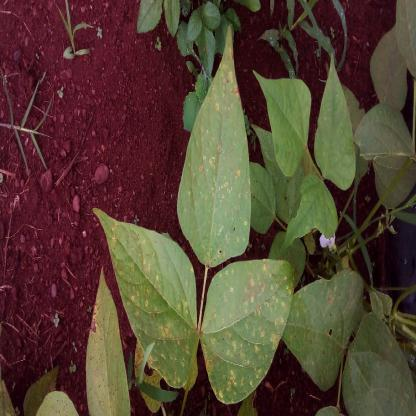Beans_Rust: (92, 206, 198, 392), (176, 18, 253, 265), (206, 267, 294, 396)
